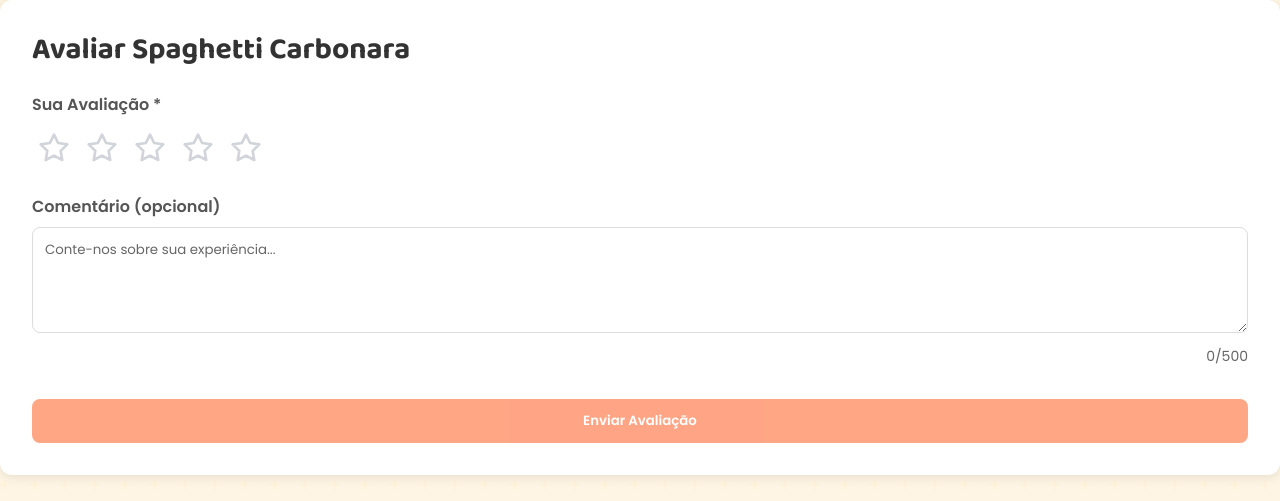
Scenario: ReviewForm › deve mostrar contador de caracteres
The width and height of the screenshot is (1280, 501).
Check: the text "0/500" is shown, box [1206,346,1248,366]
Step 1. Type "Test" into the text box with placeholder "Conte-nos sobre sua experiência..." → (640, 280), box [32,227,1248,333]
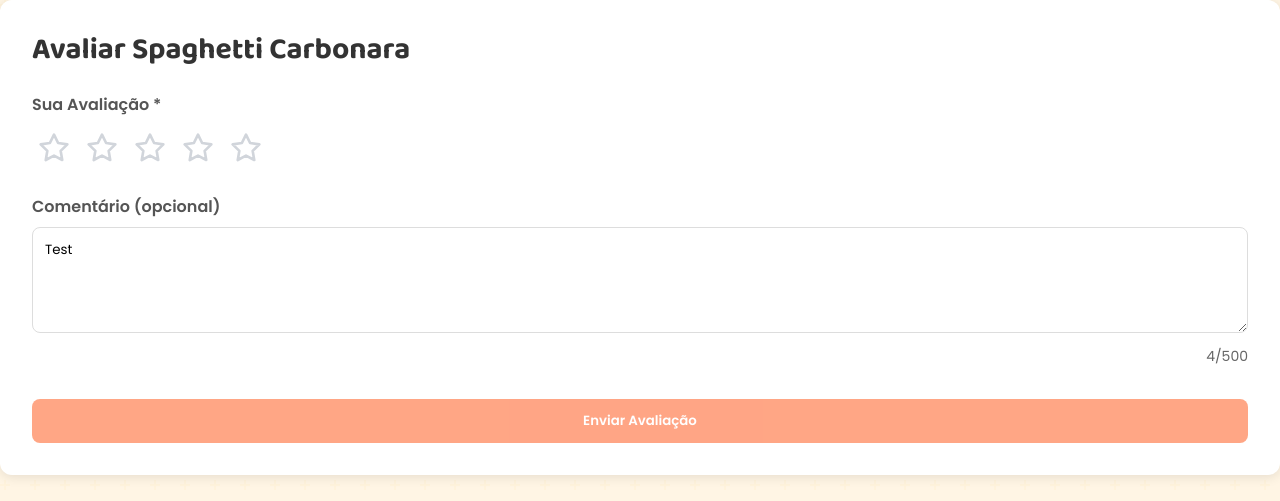
Check: the text "4/500" is shown, box [1206,346,1248,366]
